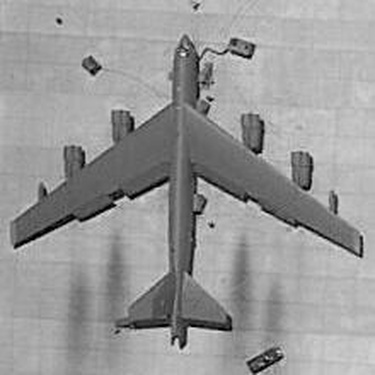airplane: (3, 16, 367, 354)
